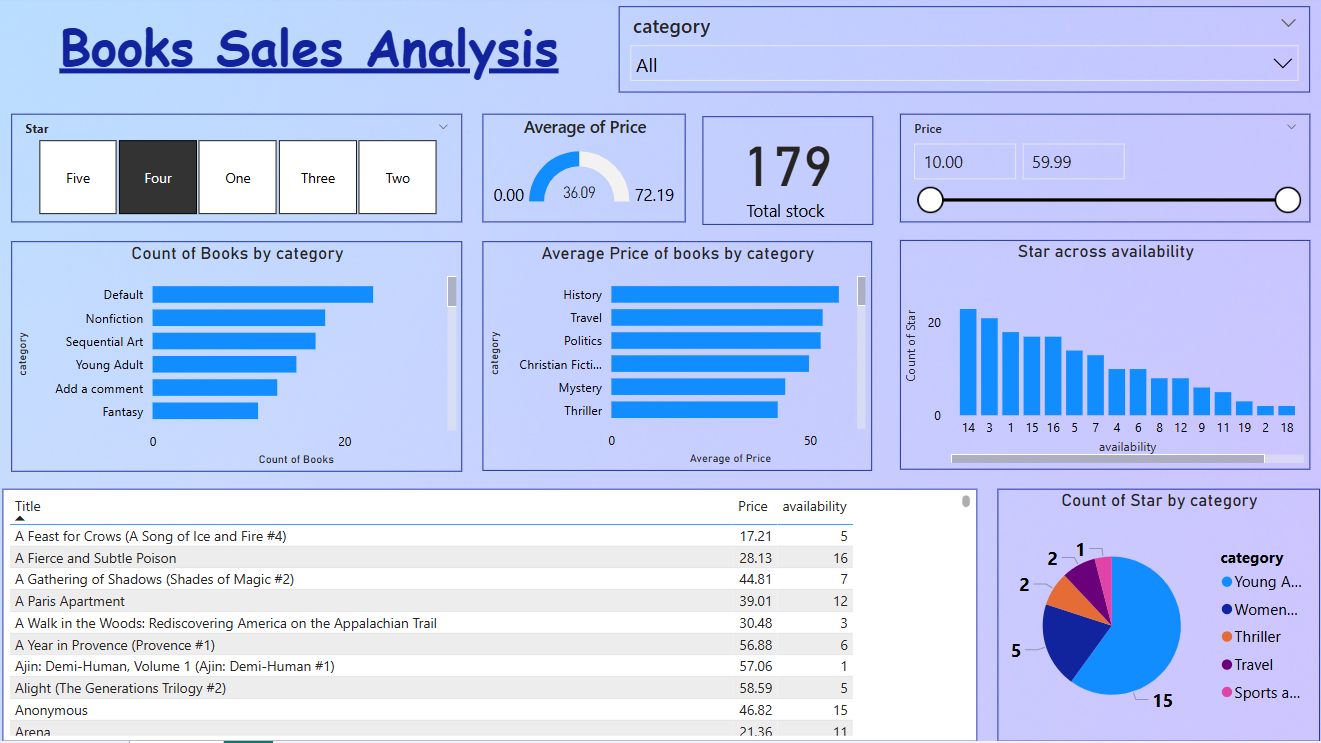

This screenshot's page, from the dashboard's own definition file:
{"tool":"powerbi","page":{"name":"Page 1","canvas":[1280,720],"ordinal":0},"visuals":[{"type":"clusteredBarChart","fields":{"Y":["Count(books1.Title)"],"Category":["books1.category"]},"box":[15.2,238,435.4,222.8],"z":0},{"type":"pieChart","fields":{"Y":["CountNonNull(books1.Star)"],"Category":["books1.category"]},"box":[967.1,475.9,311.4,244.3],"z":1000},{"type":"card","title":"Total stock of books","fields":{"Values":["CountNonNull(books1.availability)"]},"box":[682.3,116.5,164.6,105.1],"z":2000},{"type":"slicer","fields":{"Values":["books1.Star"]},"box":[15.2,115.2,435.4,105.1],"z":3000},{"type":"tableEx","fields":{"Values":["books1.Title","books1.Price","books1.availability"]},"box":[7.6,475.9,940.5,244.3],"z":4000},{"type":"clusteredBarChart","title":"Average Price of books by category","fields":{"Y":["Avg(books1.Price)"],"Category":["books1.category"]},"box":[470.9,238,375.9,221.5],"z":5000},{"type":"gauge","title":"Average of Price","fields":{"Y":["Avg(books1.Price)"]},"box":[470.9,115.2,196.2,105.1],"z":6000},{"type":"columnChart","box":[1324.1,157,396.2,221.5],"z":7000},{"type":"columnChart","title":"Star across availability","fields":{"Category":["books1.availability"],"Y":["CountNonNull(books1.Star)"]},"box":[873.4,236.7,396.2,221.5],"z":8000},{"type":"slicer","fields":{"Values":["books1.Price"]},"box":[873.4,115.2,396.2,105.1],"z":9000},{"type":"slicer","fields":{"Values":["books1.category"]},"box":[602.5,11.4,667.1,83.5],"z":10000},{"type":"textbox","box":[15.2,11.4,574.7,83.5],"z":11000}]}

Visuals, with their boxes in screenshot pixels (x1, y1, x2, y2), scaled from the page's 1280x720 canvas onto the 1321x743 screenshot:
clusteredBarChart - Count(books1.Title) x books1.category: l=16, t=246, r=465, b=476
pieChart - CountNonNull(books1.Star) x books1.category: l=998, t=491, r=1319, b=742
"Total stock of books" card: l=704, t=120, r=874, b=229
slicer - books1.Star: l=16, t=119, r=465, b=227
tableEx - books1.Title x books1.Price: l=8, t=491, r=978, b=742
"Average Price of books by category" clusteredBarChart: l=486, t=246, r=874, b=474
"Average of Price" gauge: l=486, t=119, r=688, b=227
"Star across availability" columnChart: l=901, t=244, r=1310, b=473
slicer - books1.Price: l=901, t=119, r=1310, b=227
slicer - books1.category: l=622, t=12, r=1310, b=98
textbox: l=16, t=12, r=609, b=98
